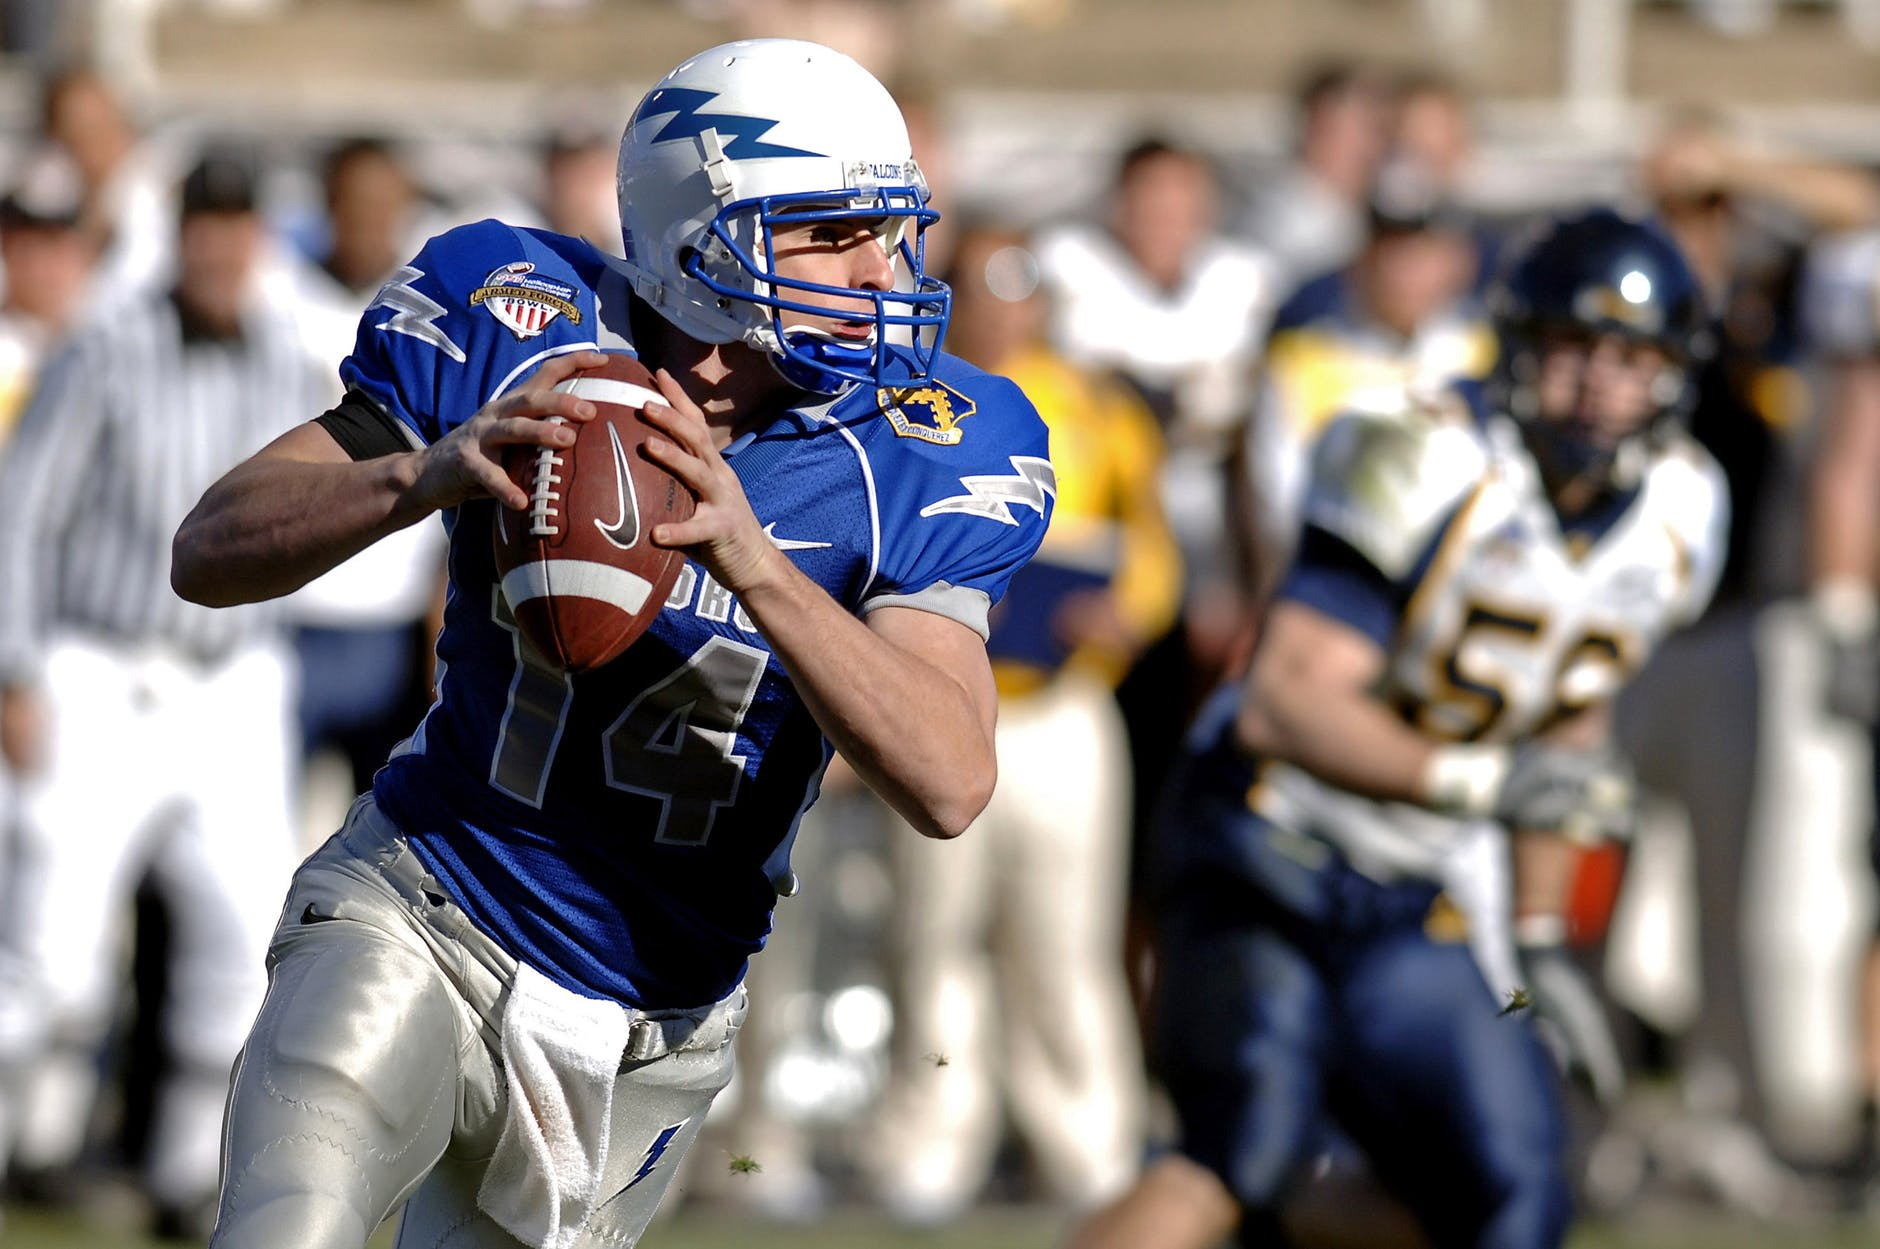helmet: (617, 38, 937, 361)
